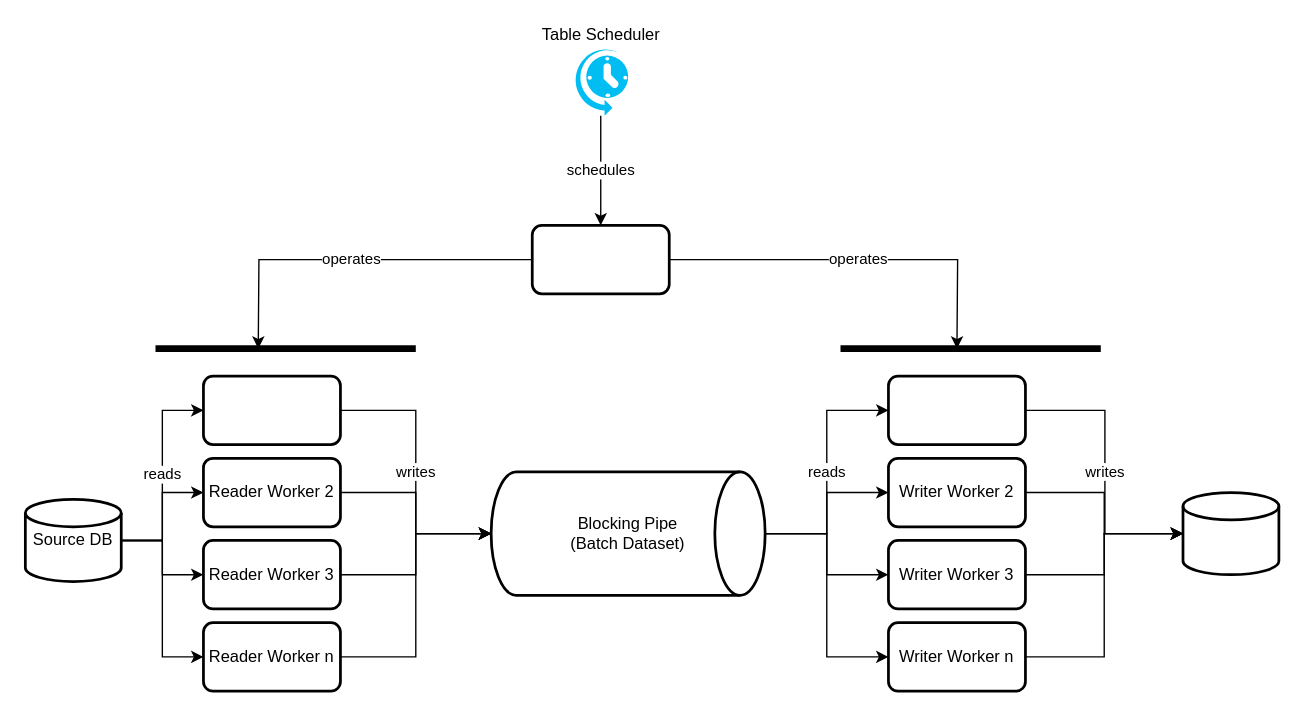
Some shapes in this 1303 by 715 pixel diagram are drawn without their labels. The centre of each missing label's shape, as x and y in pixels:
Reader Worker 1: [271,409]
Scheduled Table: [600,259]
Target DB: [1230,532]
Writer Worker 1: [956,409]
